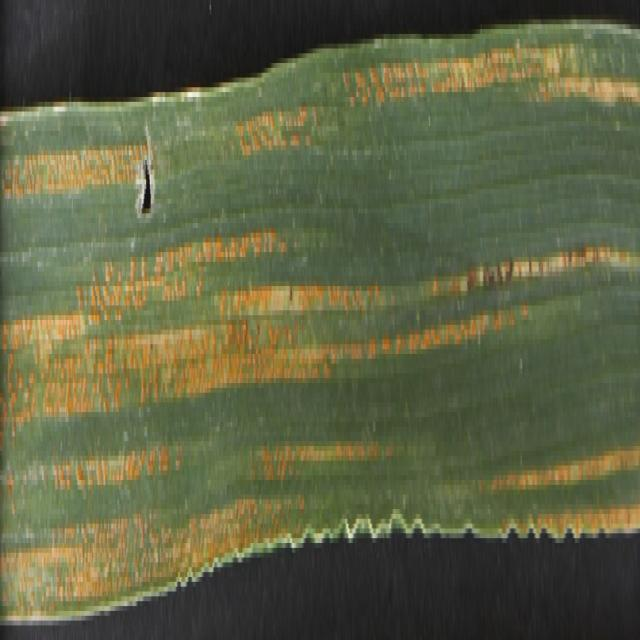leaf rust: (139, 237, 640, 610), (225, 15, 640, 189), (1, 116, 136, 592)
